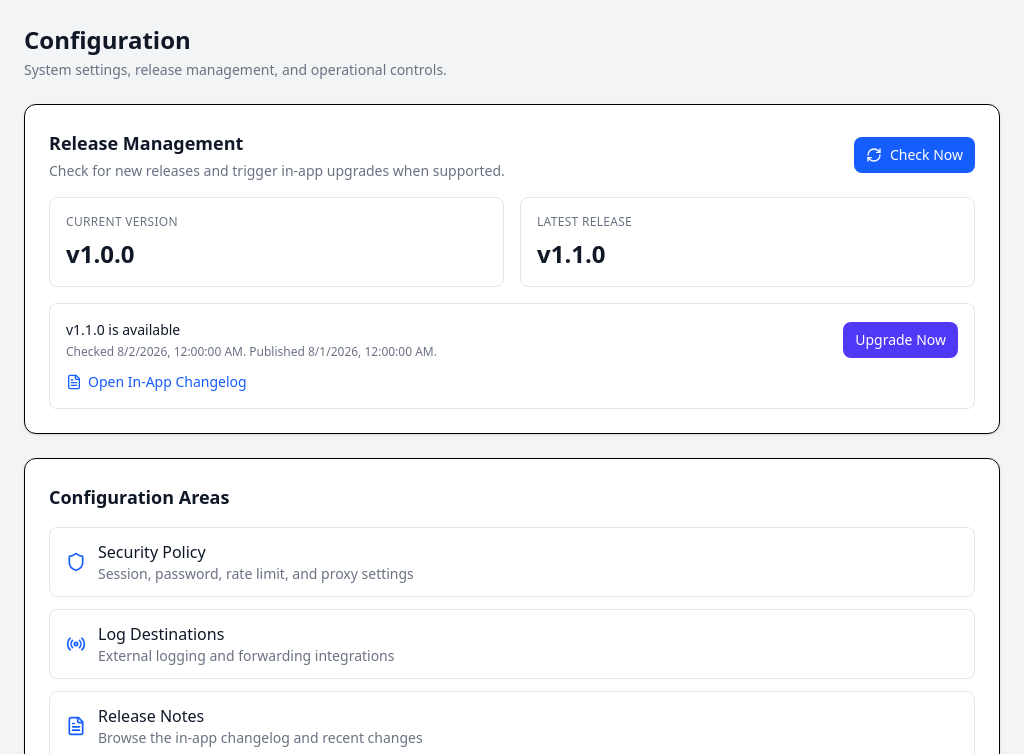
ConfigurationPage upgrade polling › stops polling and reports the message when the upgrade fails
The image size is (1024, 754).
Click the button "Upgrade Now" at (901, 340), box [843, 322, 958, 358]
Wait 5000 ms
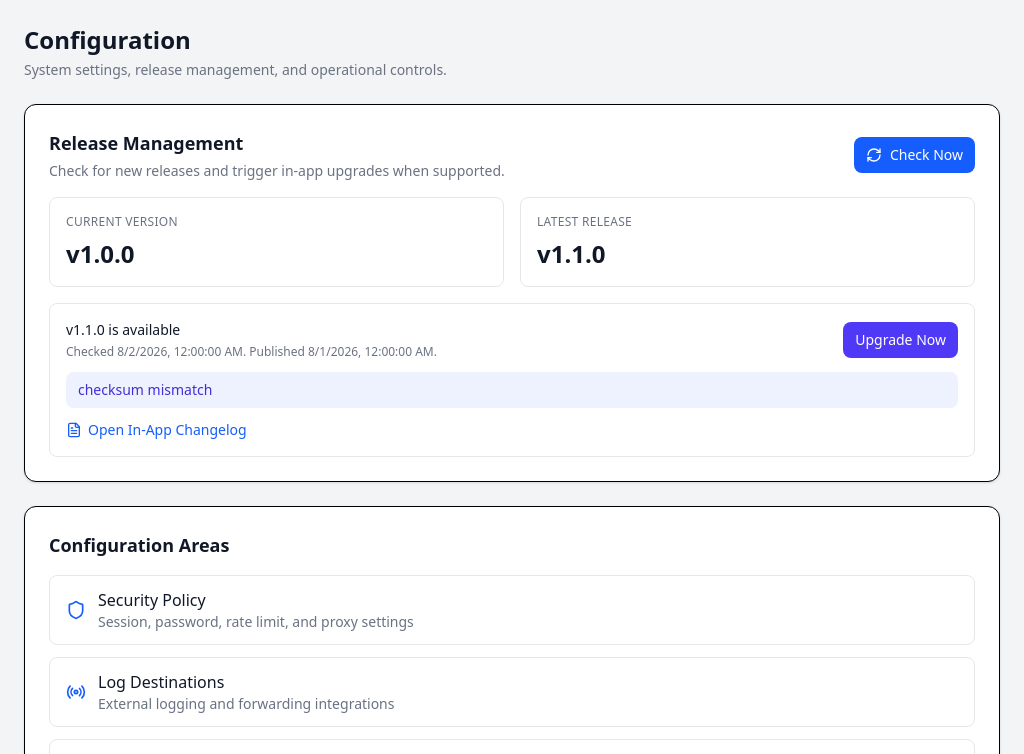
Now the text "checksum mismatch" is shown, box [66, 372, 958, 408]
